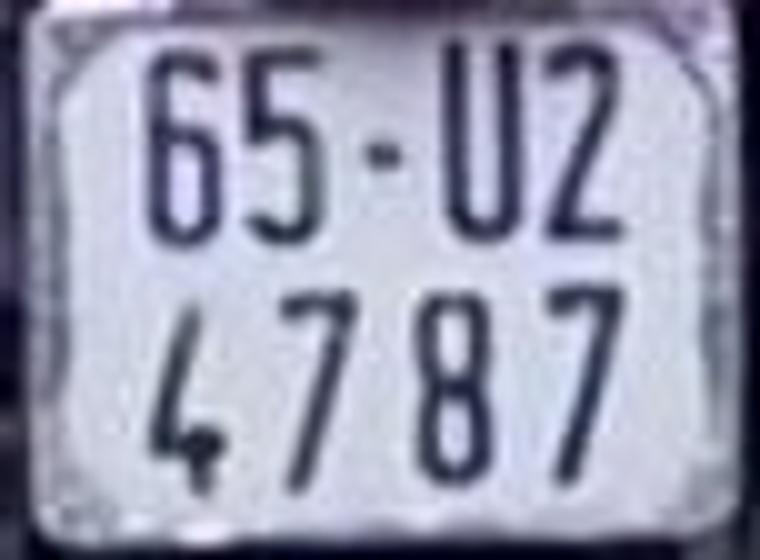-: (365, 138, 405, 174)
2: (543, 39, 617, 239)
4: (147, 296, 226, 500)
5: (243, 46, 327, 242)
6: (141, 51, 220, 243)
7: (537, 277, 626, 500), (271, 283, 361, 496)
8: (406, 285, 498, 487)
U: (435, 31, 524, 244)
